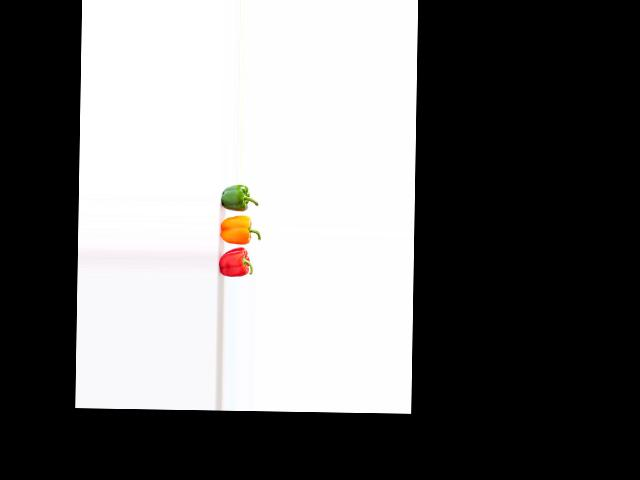bell_pepper: (219, 246, 260, 279)
